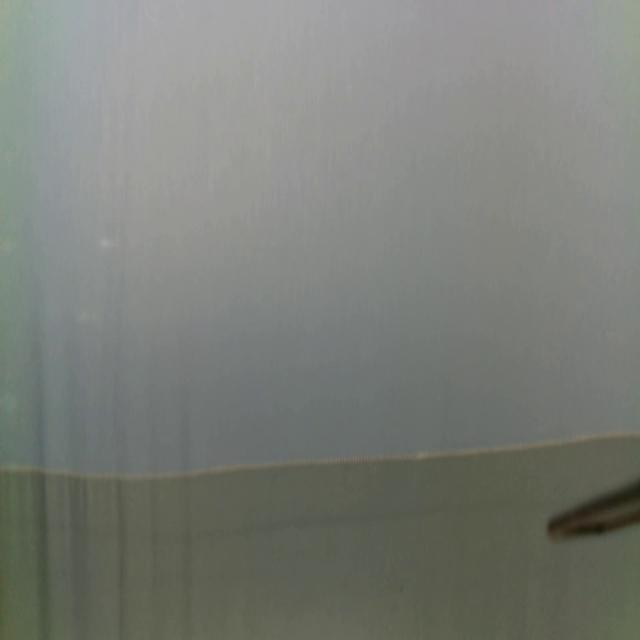color bleeding: (0, 492, 533, 547)
